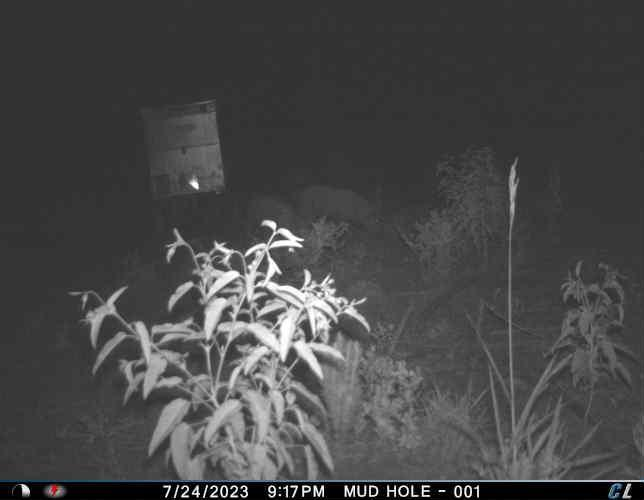Hog: (297, 186, 392, 232), (246, 192, 305, 242)
